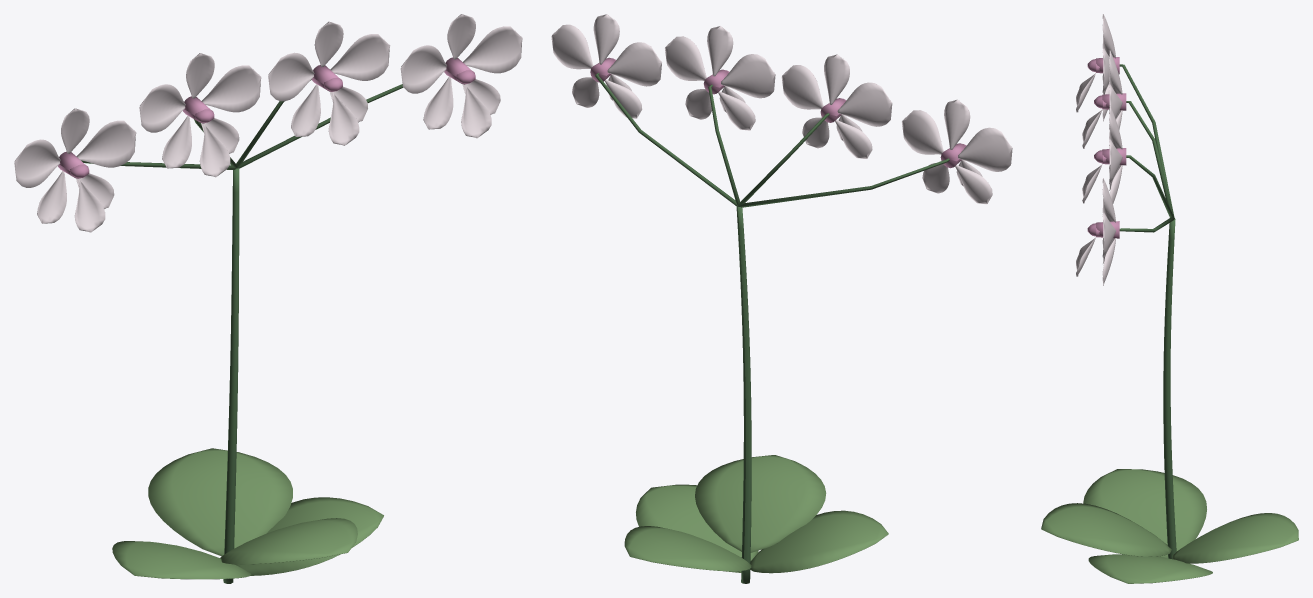
The model's file is orchid-epic-v2.glb.
3 renders of one model, left to right at view 1: azimuth 30°, elevation 25°; view 2: azimuth 150°, elevation 25°; view 3: azimuth 270°, elevation 25°, orthographic. The views are drawn at different scales.
Parts seen in each view (by area): view 1: orchid-epic-v2-petal, orchid-epic-v2-leaf, orchid-epic-v2-stem, orchid-epic-v2-center; view 2: orchid-epic-v2-petal, orchid-epic-v2-leaf, orchid-epic-v2-stem, orchid-epic-v2-center; view 3: orchid-epic-v2-leaf, orchid-epic-v2-petal, orchid-epic-v2-stem, orchid-epic-v2-center.
Boxes of the visible parts, left/top/right/bottom form: orchid-epic-v2-petal: left=14, top=14, right=522, bottom=232; orchid-epic-v2-leaf: left=112, top=448, right=383, bottom=579; orchid-epic-v2-stem: left=81, top=79, right=403, bottom=583; orchid-epic-v2-center: left=58, top=57, right=475, bottom=178; orchid-epic-v2-petal: left=551, top=14, right=1012, bottom=204; orchid-epic-v2-leaf: left=624, top=455, right=888, bottom=573; orchid-epic-v2-stem: left=595, top=73, right=949, bottom=583; orchid-epic-v2-center: left=590, top=57, right=966, bottom=168; orchid-epic-v2-leaf: left=1041, top=469, right=1298, bottom=583; orchid-epic-v2-petal: left=1076, top=14, right=1122, bottom=285; orchid-epic-v2-stem: left=1119, top=64, right=1176, bottom=558; orchid-epic-v2-center: left=1087, top=57, right=1126, bottom=238.
Bounding box in the file's own units: 1.93 × 2.08 × 0.975.
